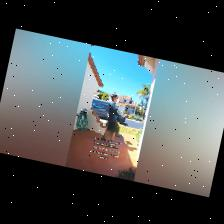person: (101, 94, 118, 145)
